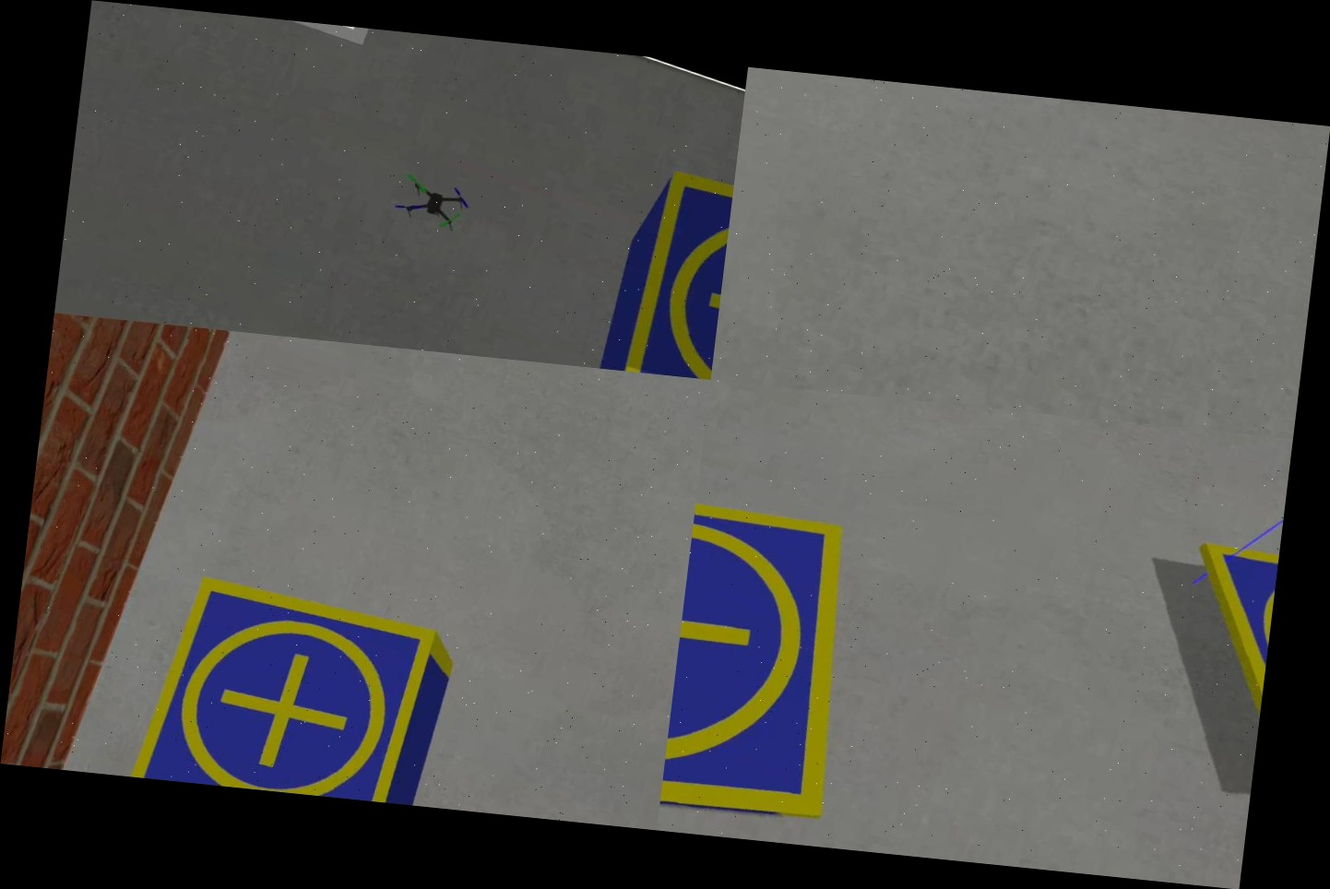small_base: (657, 439, 937, 853), (117, 548, 469, 808), (1118, 499, 1283, 806), (586, 141, 738, 380)
